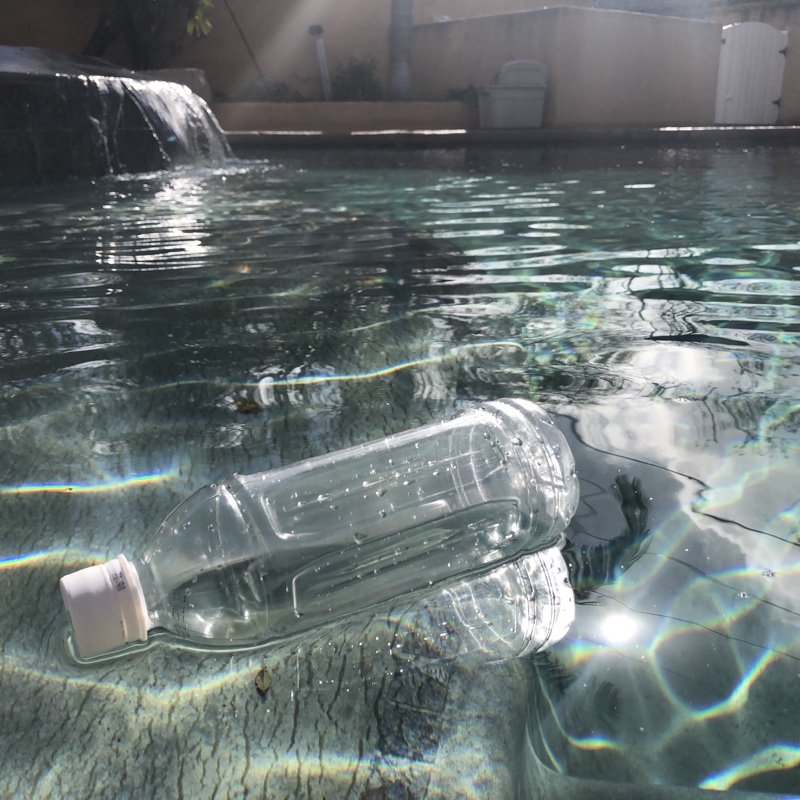Plastic Bottle: (53, 393, 587, 675)
